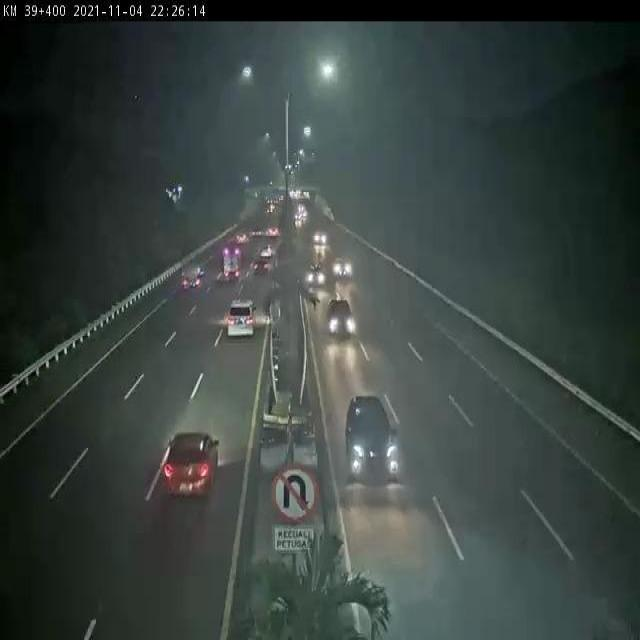car: (345, 401, 402, 492), (162, 432, 223, 504), (222, 306, 255, 346), (329, 300, 359, 339), (305, 264, 326, 292), (332, 263, 355, 281)
truck-l-: (185, 265, 205, 291)
truck-m-: (222, 248, 240, 281)
